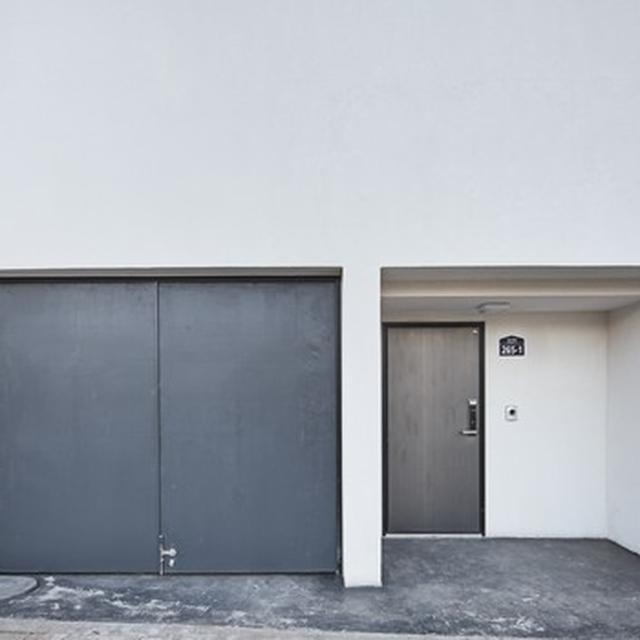building: (0, 1, 640, 588)
